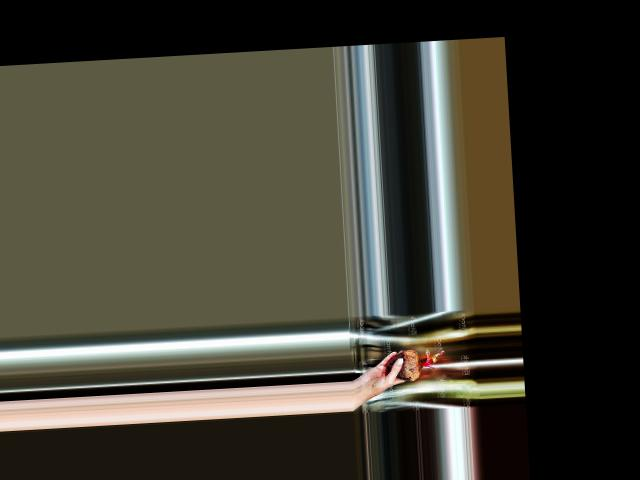beet: (385, 347, 445, 381)
